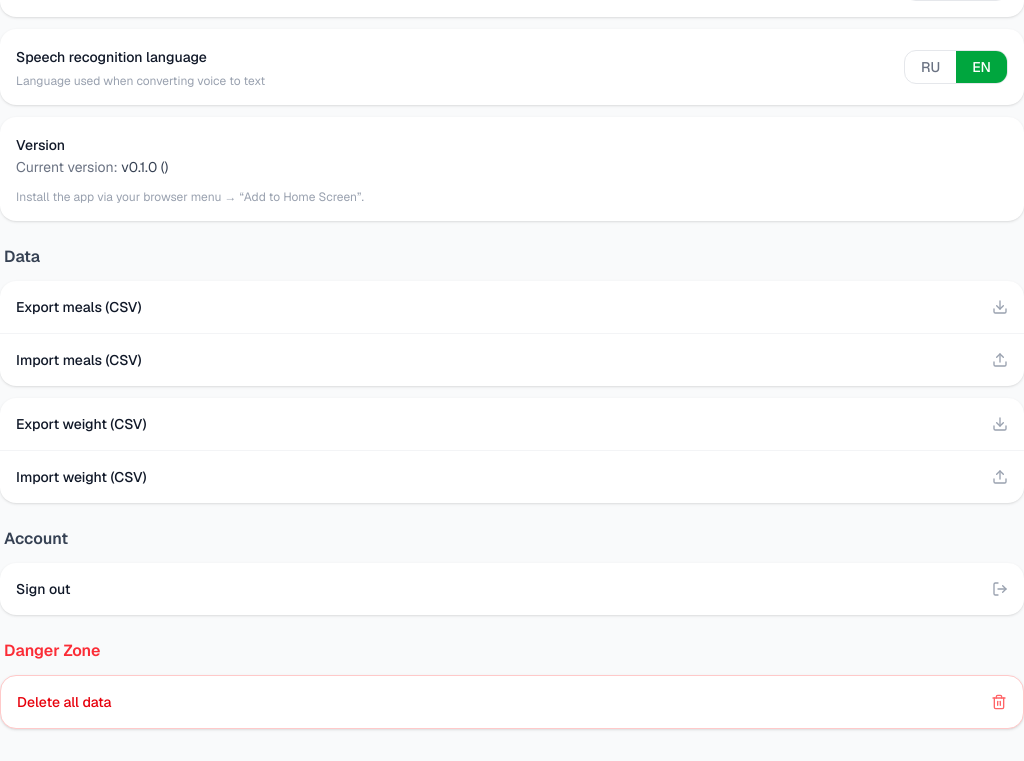
Test case: SettingsClient › logout_ShouldShowError_WhenSessionCannotBeEnded
The width and height of the screenshot is (1024, 761).
(page scrolled)
Click the button "Sign out" at (43, 589), box [0,563,1023,615]
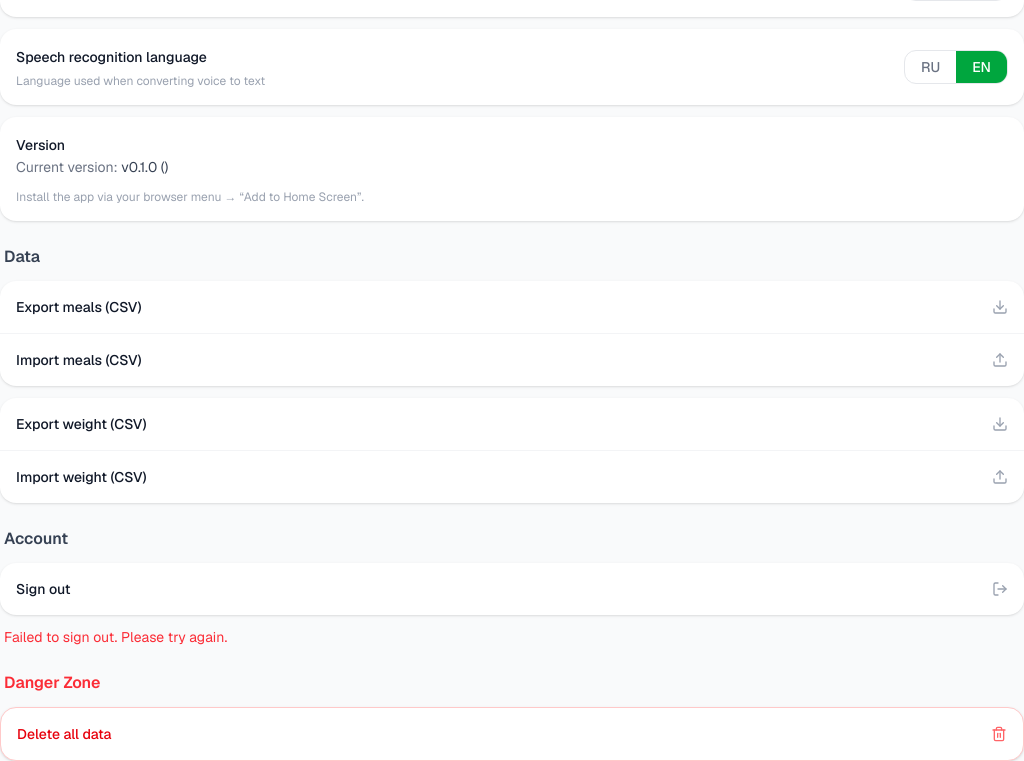
expect the text "Failed to sign out. Please try again." is shown: met, box [4,628,227,646]
